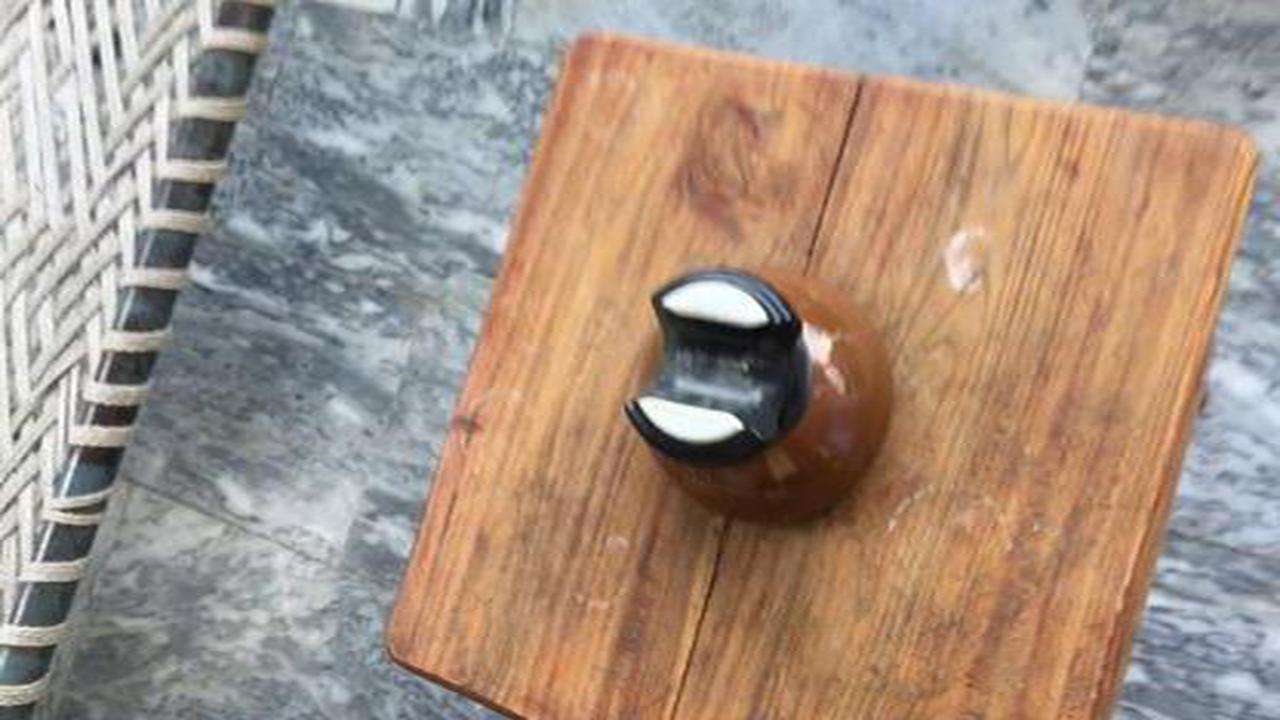insulator_pin: (601, 257, 914, 542)
